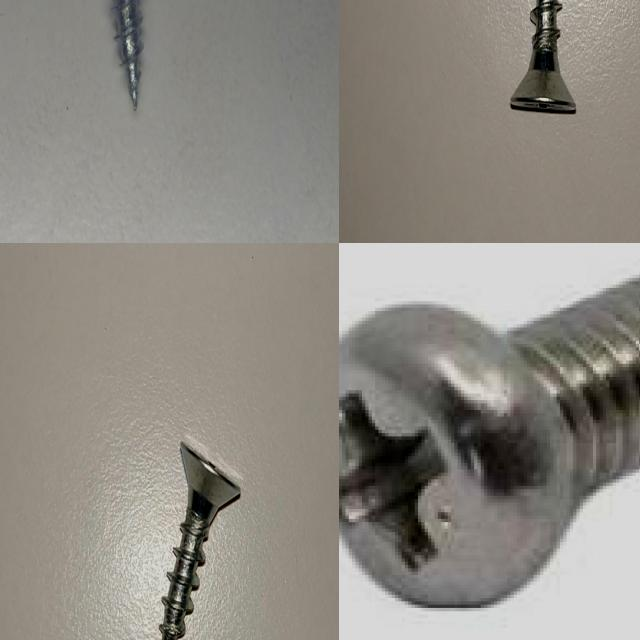Screw: (339, 275, 640, 608), (159, 441, 241, 640), (510, 0, 576, 112), (114, 0, 143, 107)
